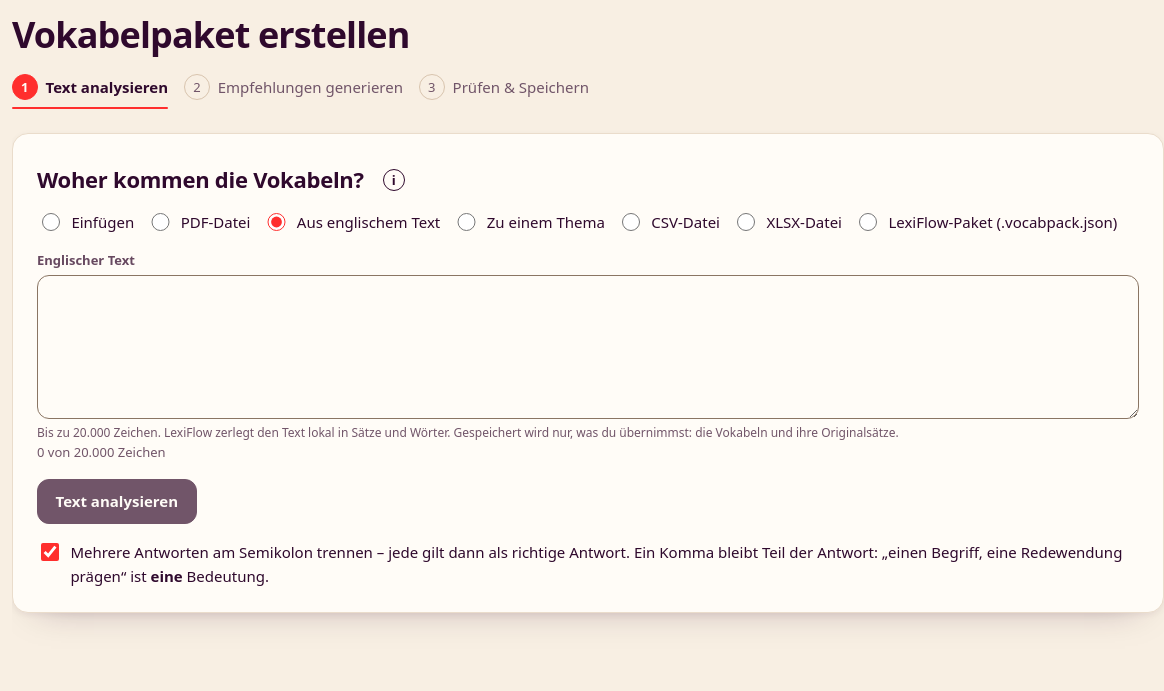
Test: Der Weg durch die drei Schritte › macht die späteren Schritte erst erreichbar, wenn sie es sind
This screenshot has width=1164, height=691.
expect the button with aria-label "Schritt 2: Empfehlungen generieren" is disabled: met, box 184,65 -> 403,109
expect the button with aria-label "Schritt 3: Prüfen & Speichern" is disabled: met, box 419,65 -> 589,109
Click the text box labelled "Englischer Text": [588, 347] box 37,275 -> 1139,419
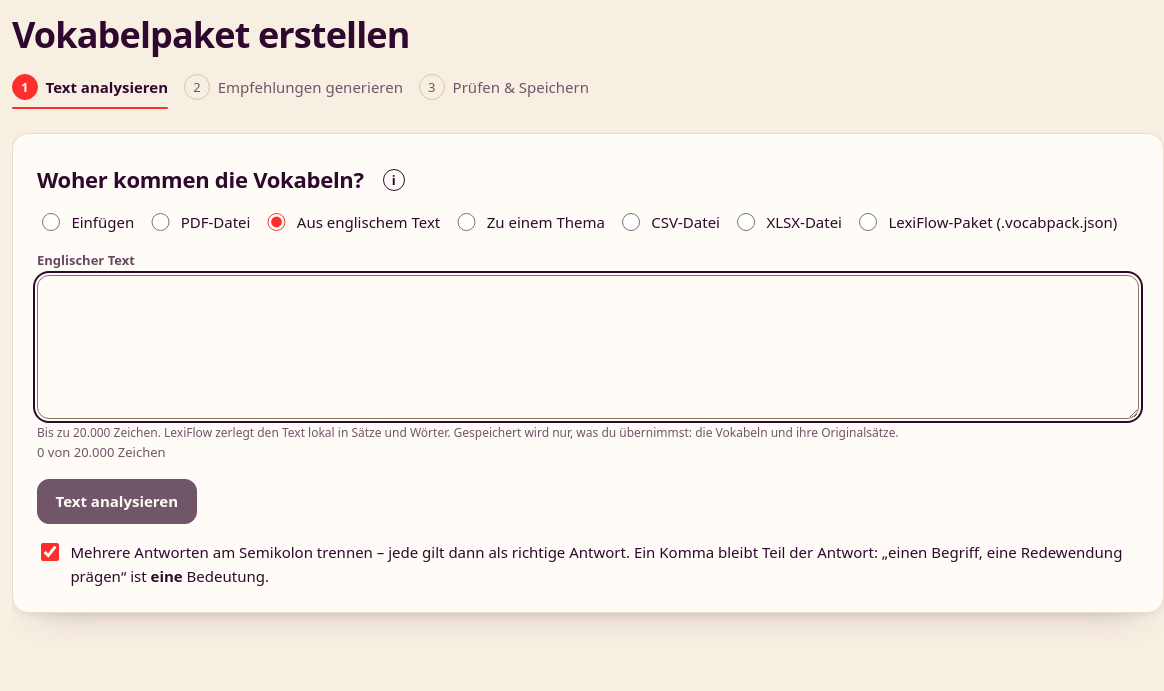
Type keys "The neighbourhood is crowded. Litter is a problem in the neighbourhood."
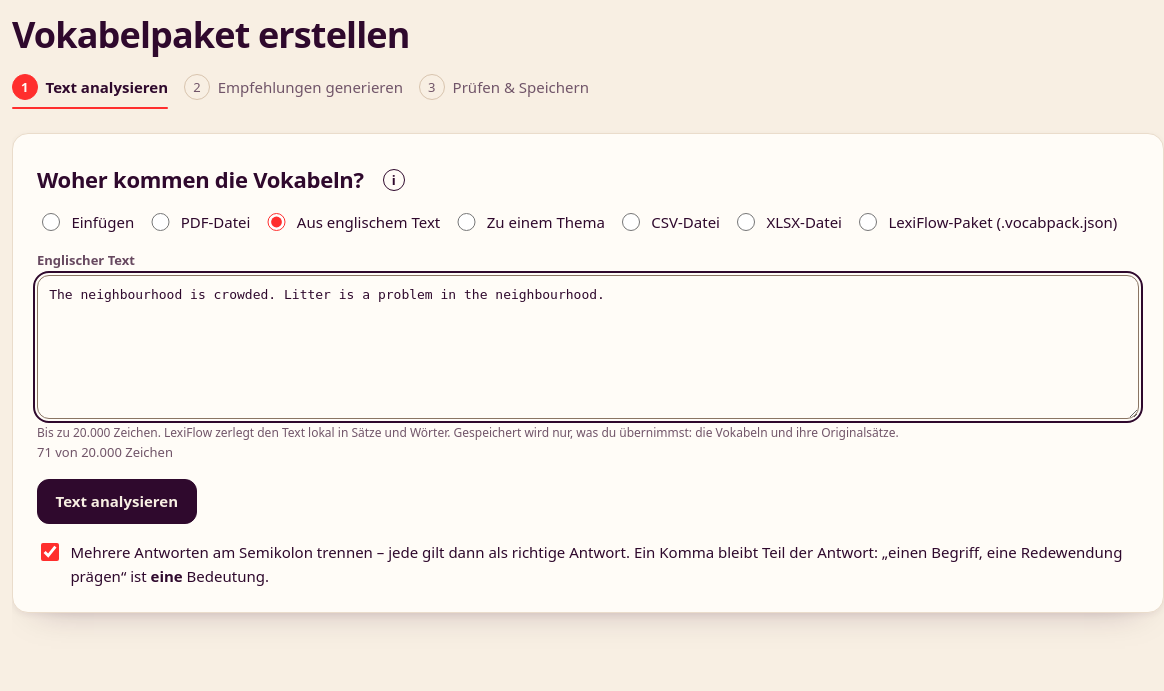
Click the button "Text analysieren": [117, 501] box 37,479 -> 197,524
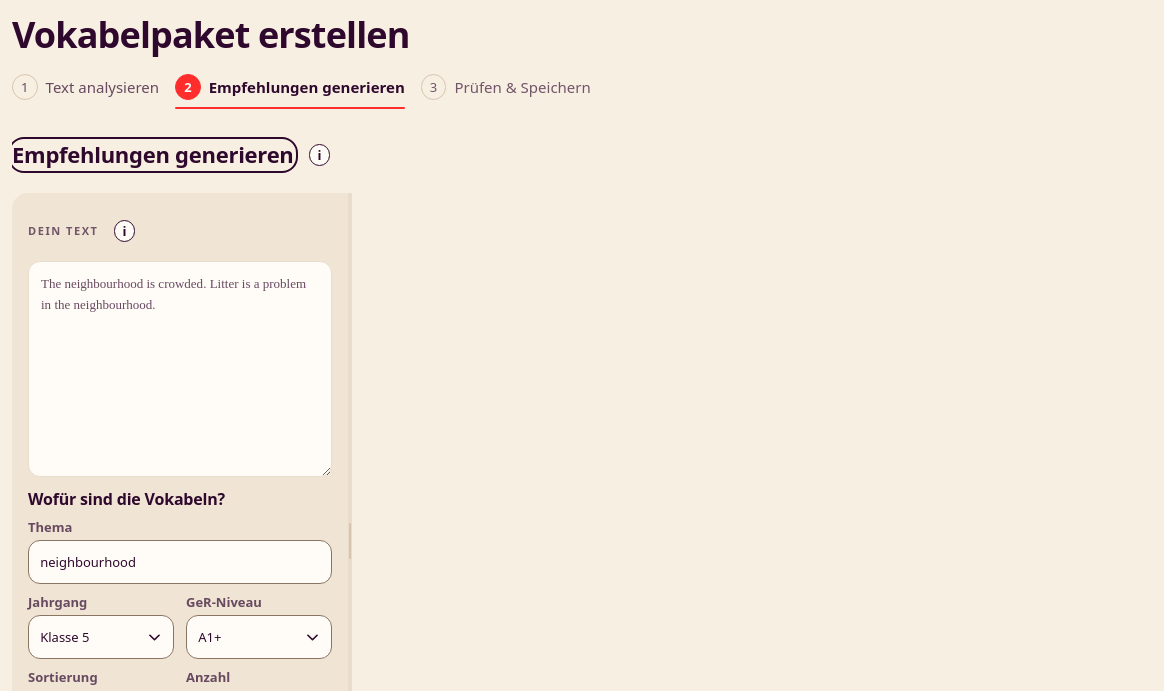
expect the button with aria-label "Schritt 3: Prüfen & Speichern" is disabled: met, box 421,65 -> 591,109
expect the button with aria-label "Schritt 2: Empfehlungen generieren" is enabled: met, box 175,65 -> 405,109
